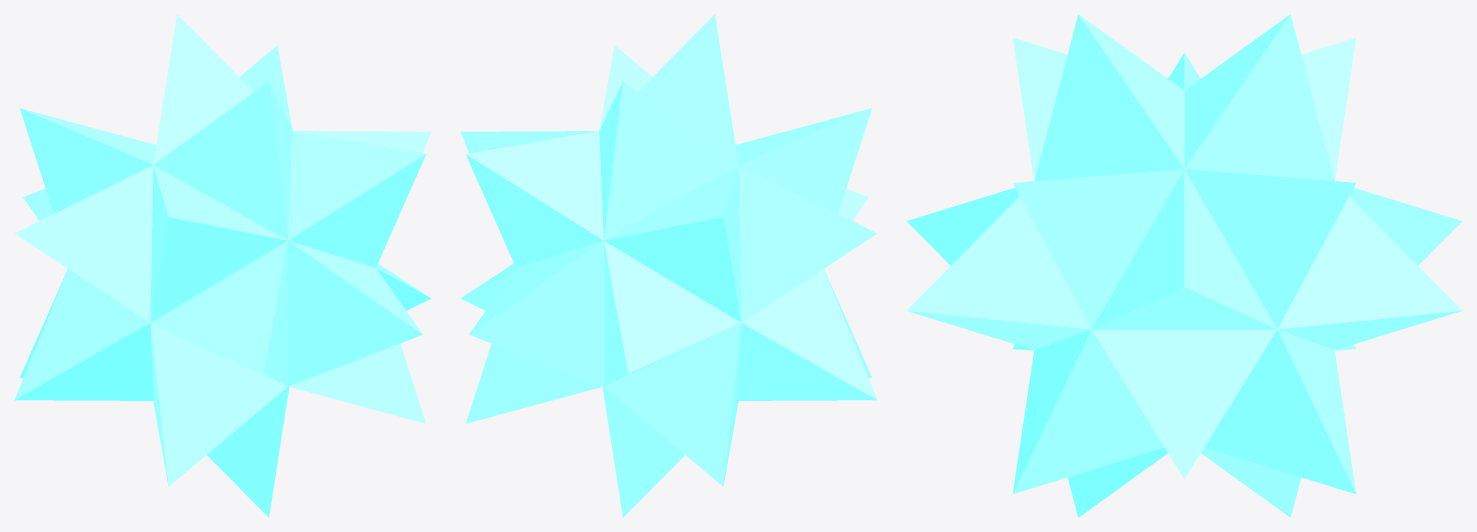
Rendered from bit-mid.glb.
3 views of the same model, side by side, from view 1: azimuth 30°, elevation 25°; view 2: azimuth 150°, elevation 25°; view 3: azimuth 270°, elevation 25° (orthographic). The views are drawn at different scales.
Size of the model in its own units: 2.9 by 2.9 by 2.9.
